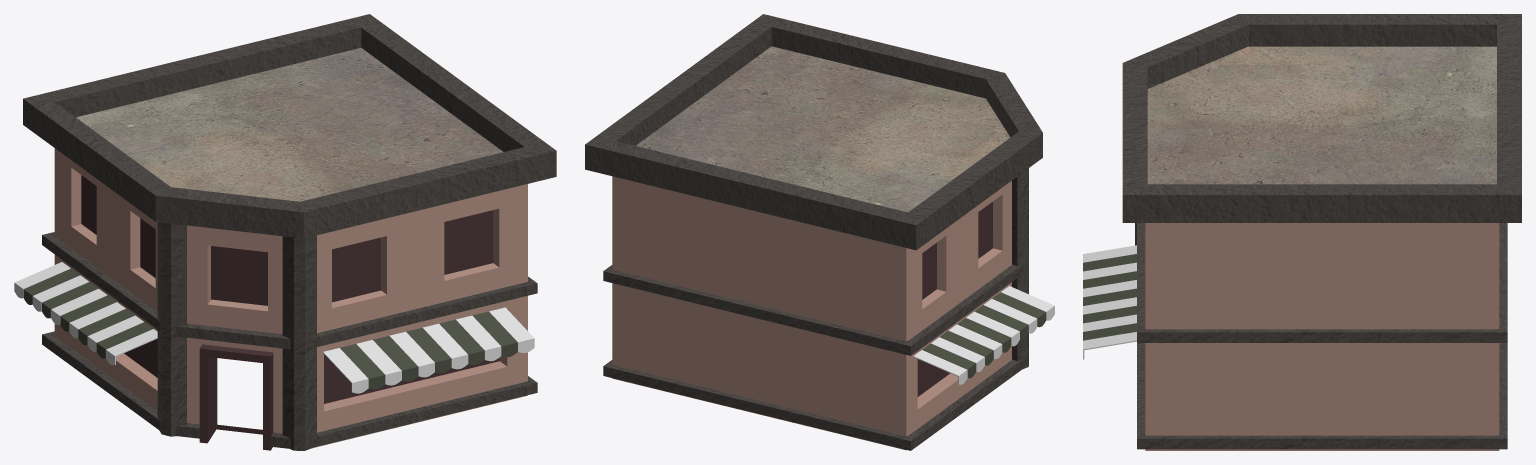
The model's file is building 4.fbx.
3 renders of one model, left to right at view 1: azimuth 30°, elevation 25°; view 2: azimuth 150°, elevation 25°; view 3: azimuth 270°, elevation 25°, orthographic. The views are drawn at different scales.
Visible parts, largest first — view 1: Building4; view 2: Building4; view 3: Building4.
Part boxes in pixels (left/top/right/bottom): Building4: left=14, top=14, right=556, bottom=450; Building4: left=585, top=14, right=1054, bottom=450; Building4: left=1083, top=14, right=1521, bottom=450.
Size of the model in its own units: 18.41 by 11.7 by 17.53.
